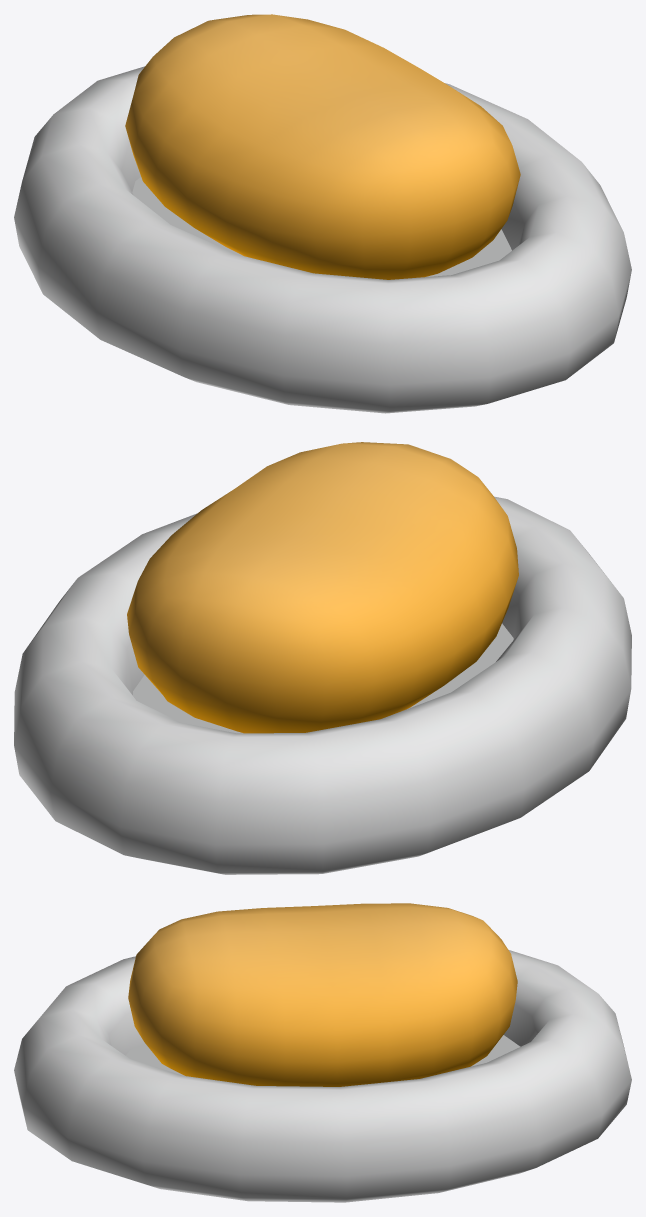
The model's file is Soap_001.fbx.
The picture shows the model from 3 angles, top to bottom: view 1: azimuth 30°, elevation 25°; view 2: azimuth 150°, elevation 25°; view 3: azimuth 270°, elevation 25°; orthographic projection. The views are drawn at different scales.
Visible parts, largest first — view 1: Soap_001; view 2: Soap_001; view 3: Soap_001.
Part boxes in pixels (box(x1,y1,x2,y2)): Soap_001: box(14, 14, 631, 413); Soap_001: box(14, 442, 631, 874); Soap_001: box(14, 903, 631, 1202).
Bounding box in the file's own units: 10.35 × 13.33 × 4.36.
